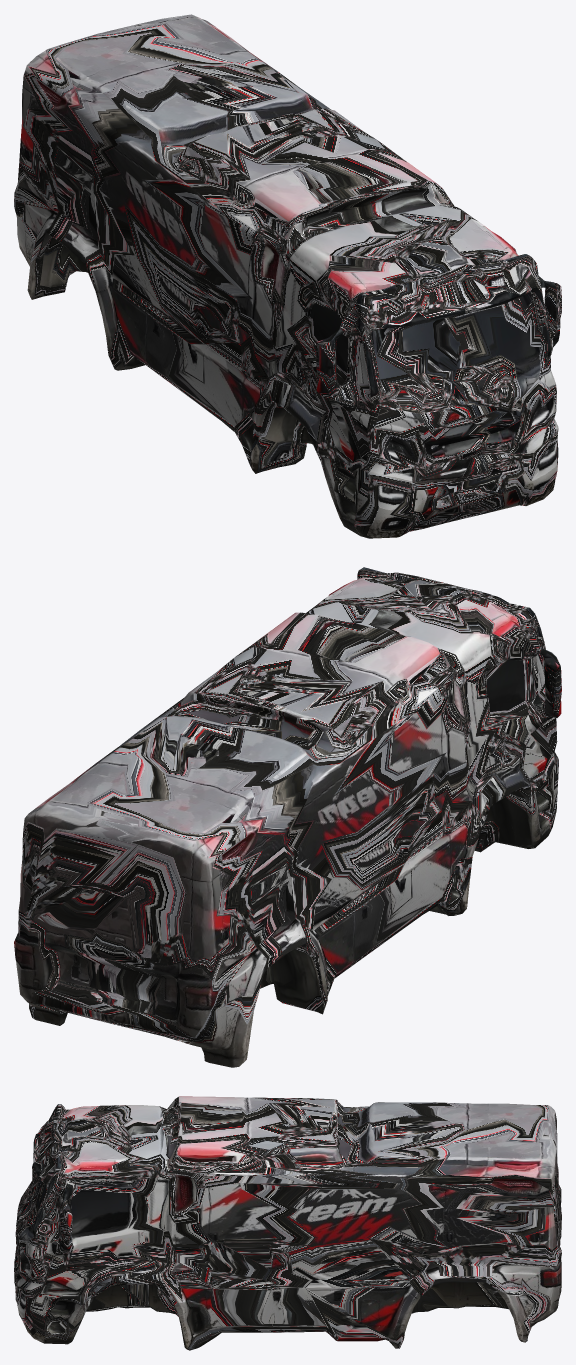
File: truck_lo.glb
3 views of the same model, one above another, from view 1: azimuth 30°, elevation 25°; view 2: azimuth 150°, elevation 25°; view 3: azimuth 270°, elevation 25° (orthographic). The views are drawn at different scales.
Parts seen in each view (by area): view 1: geometry_0; view 2: geometry_0; view 3: geometry_0.
Boxes of the visible parts, bbox=[...] form: geometry_0: bbox=[14, 14, 561, 538]; geometry_0: bbox=[14, 567, 561, 1067]; geometry_0: bbox=[14, 1096, 561, 1350].
Bounding box in the file's own units: 2.69 × 2.8 × 6.98.
1 material, 1 textured.
